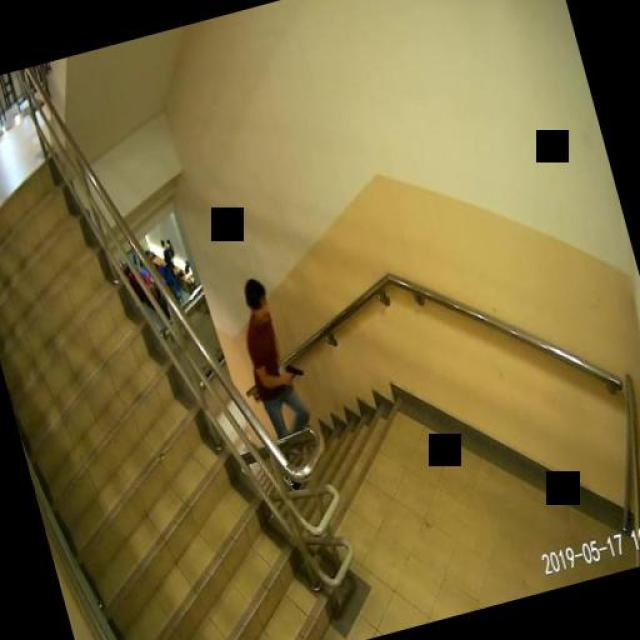gun: (281, 358, 304, 382)
